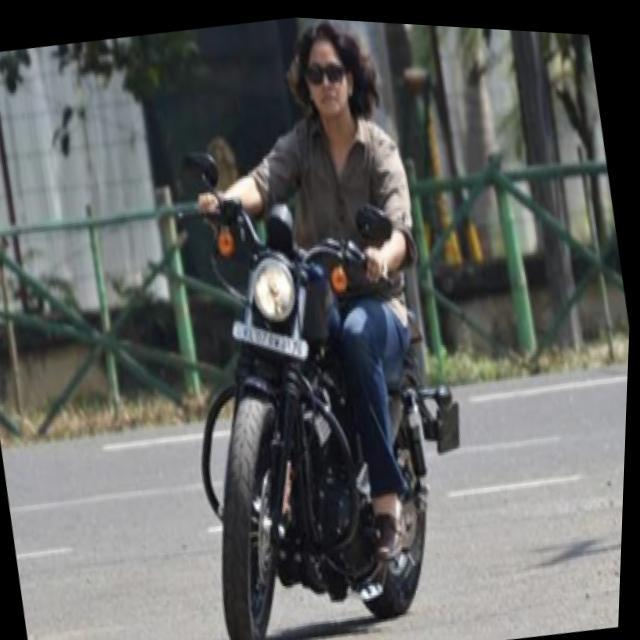Nonhelmet: (277, 16, 385, 143)
